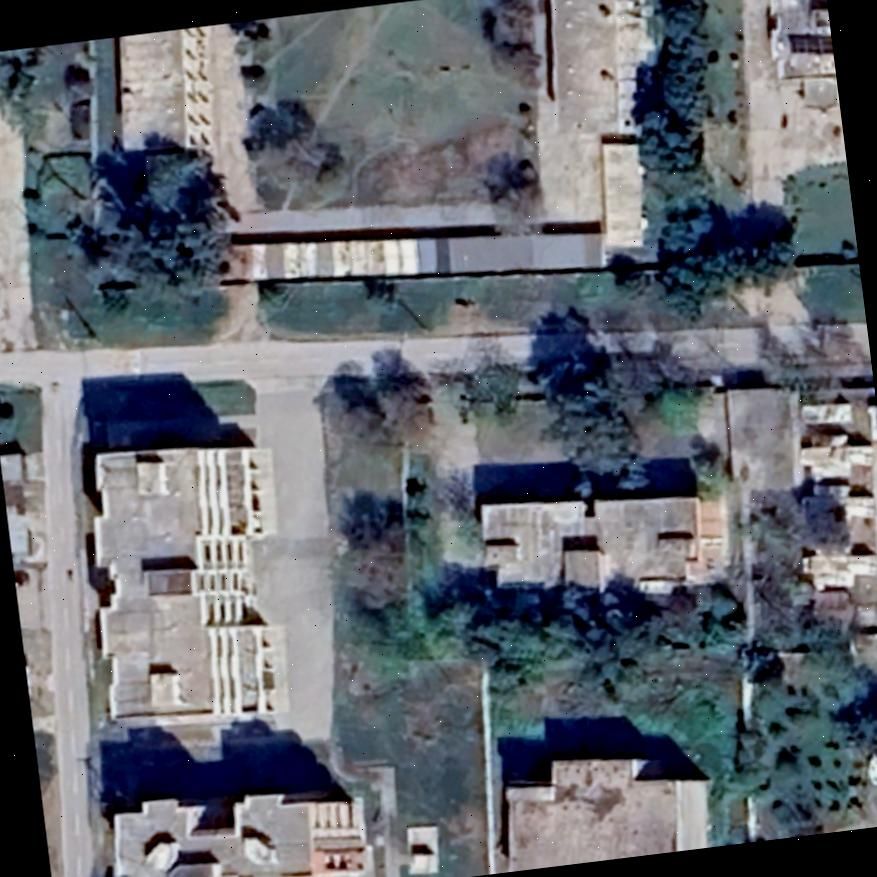Solarpanel: (780, 24, 834, 62)
